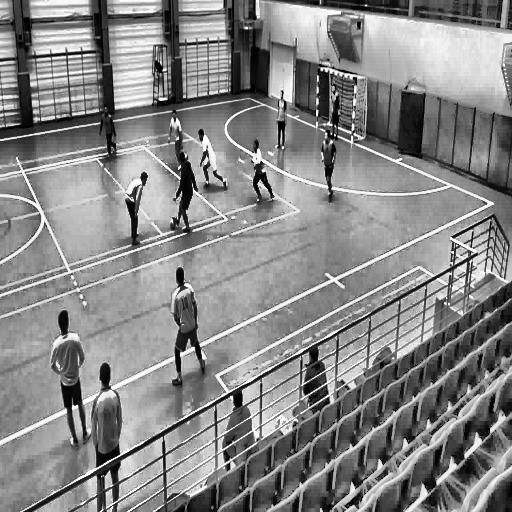ball: (169, 218, 177, 232)
player: (50, 305, 94, 455), (166, 265, 208, 387), (90, 361, 122, 511), (219, 385, 256, 468), (124, 168, 150, 256), (197, 128, 231, 194), (299, 341, 330, 411), (173, 154, 197, 238), (250, 137, 276, 209), (320, 125, 340, 208), (167, 108, 191, 172), (98, 100, 119, 164), (273, 88, 288, 151), (328, 82, 342, 140)
